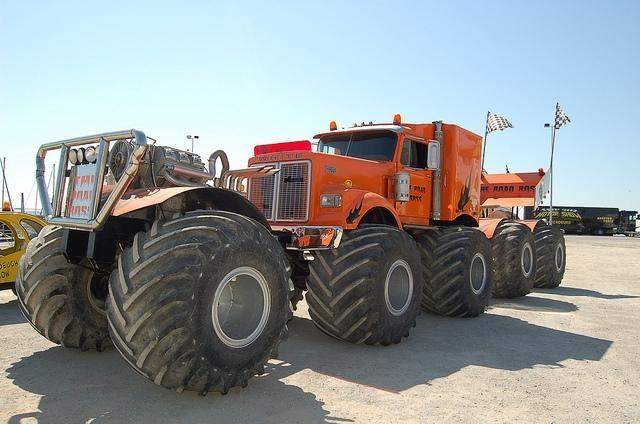car: (0, 212, 48, 296)
truck: (10, 108, 575, 406)
